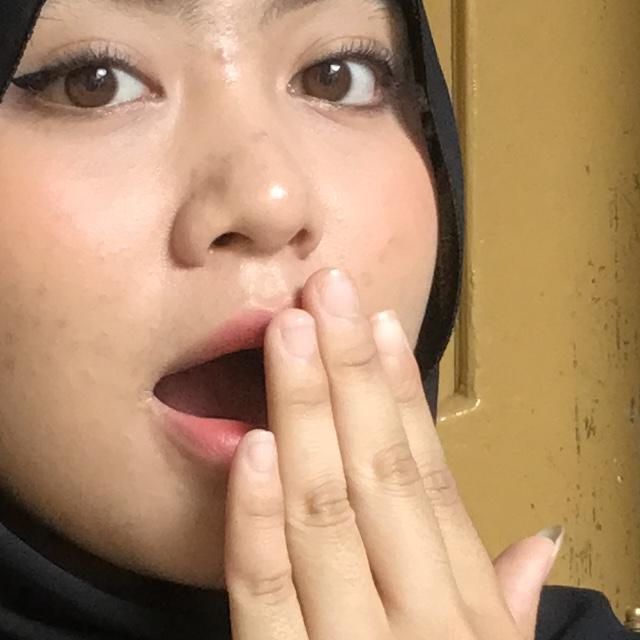ngantuk: (90, 226, 640, 640)
